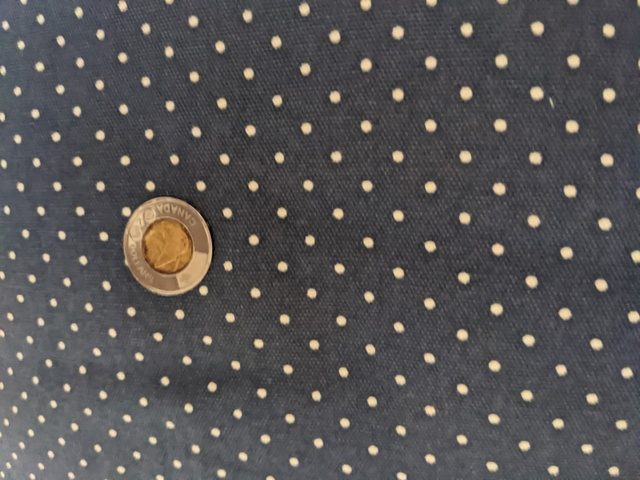twonie: (106, 187, 219, 297)
